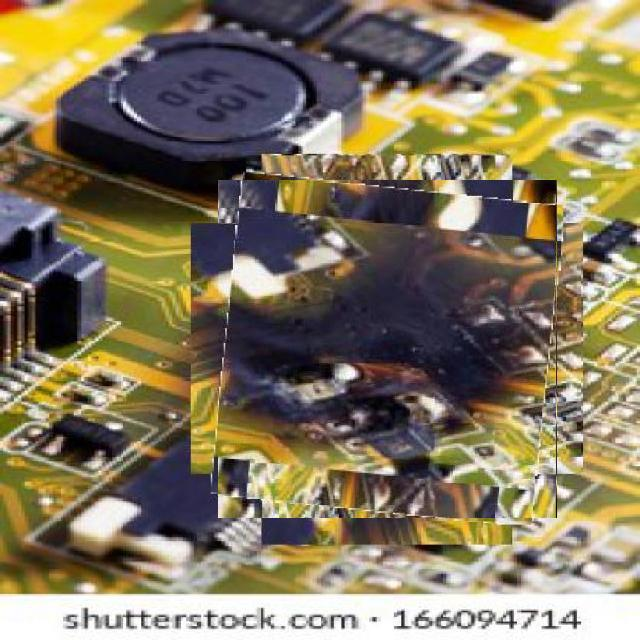damged: (218, 180, 557, 518)
